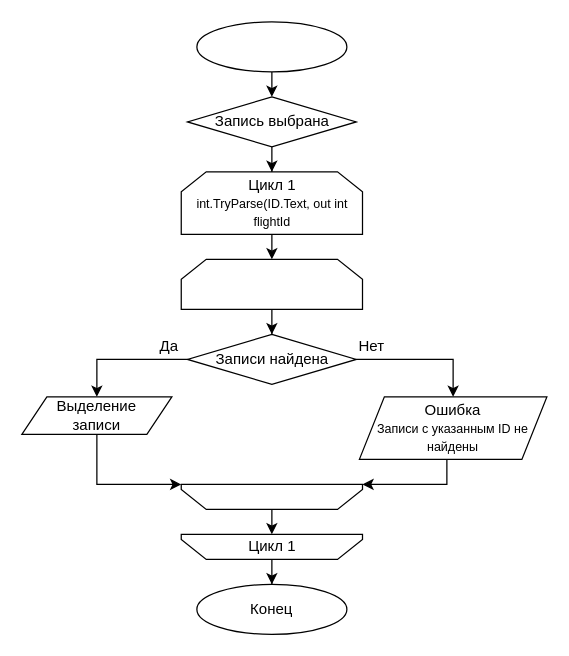
Image size: 569x656. Some labels were removed from this diagram. Each missing label, with the box of its shape:
Начало: (196, 21, 347, 72)
Цикл 2: (180, 483, 362, 509)
Цикл 2 filtered.Count > 0: (180, 258, 362, 309)
